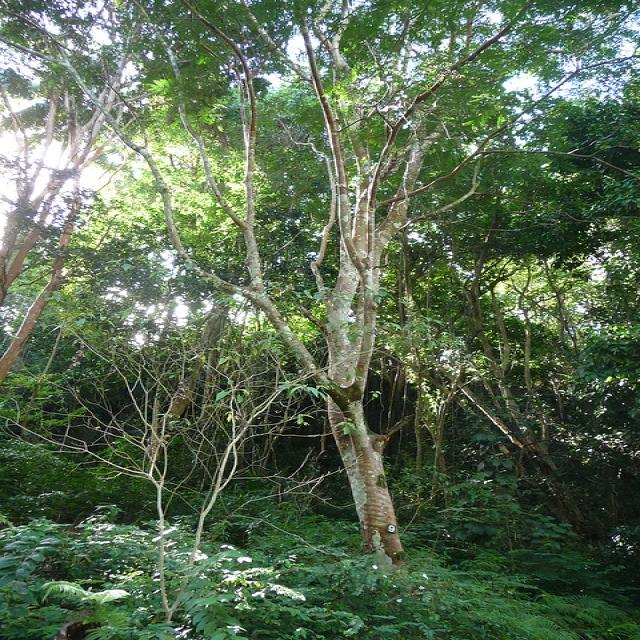Medicinal-Sandalwood: (50, 0, 533, 553)
